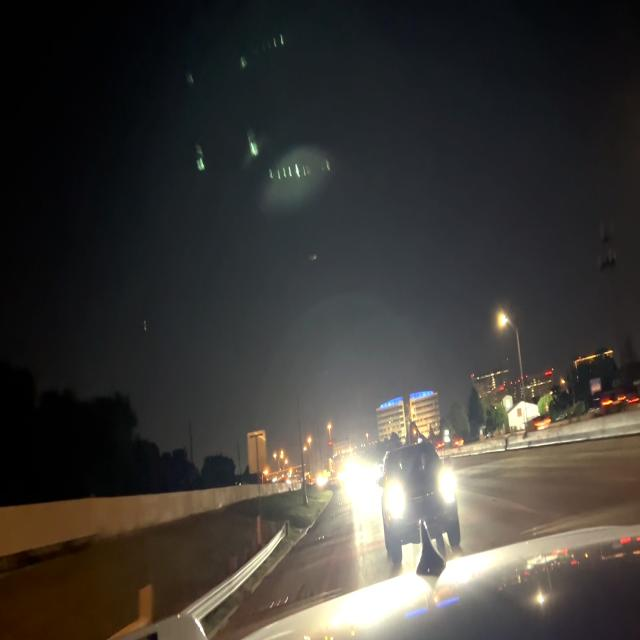back-of-sign: (246, 429, 268, 480)
